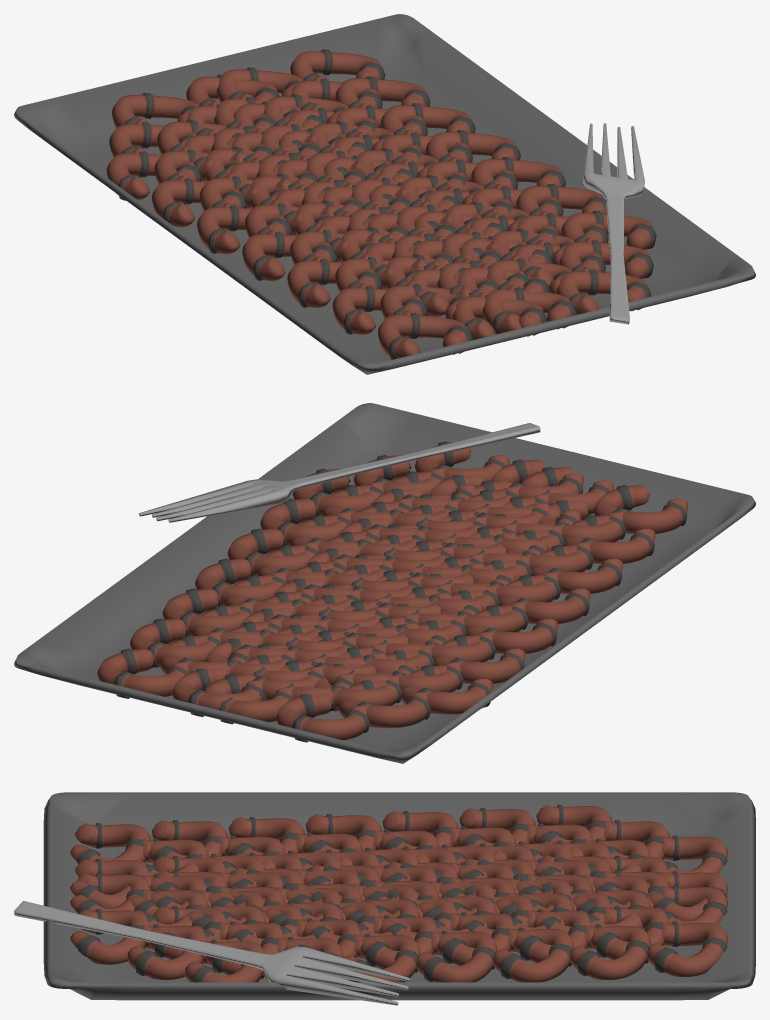
File: WormPlatter.fbx
The picture shows the model from 3 angles, top to bottom: view 1: azimuth 30°, elevation 25°; view 2: azimuth 150°, elevation 25°; view 3: azimuth 270°, elevation 25°; orthographic projection.
Visible parts, largest first — view 1: PlateOWorms; view 2: PlateOWorms; view 3: PlateOWorms.
Boxes of the visible parts, x1=… form: PlateOWorms: x1=14, y1=14, x2=755, y2=374; PlateOWorms: x1=14, y1=403, x2=755, y2=763; PlateOWorms: x1=14, y1=792, x2=755, y2=1005.
Bounding box in the file's own units: 228 × 21.16 × 330.
